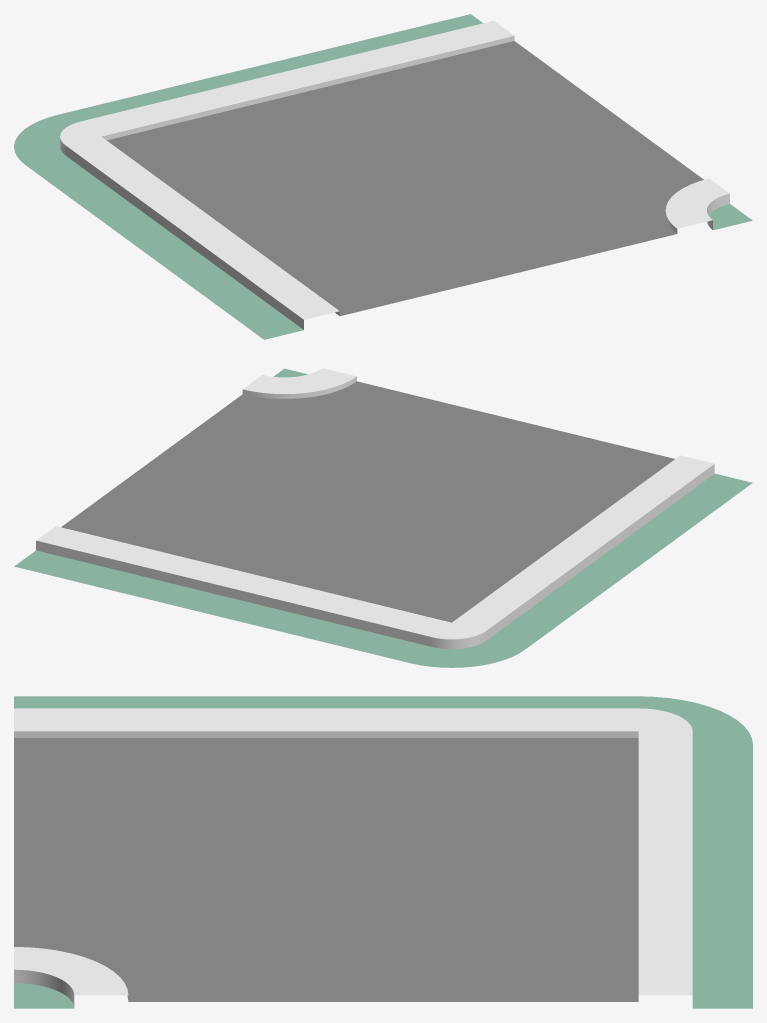
Rendered from roadCornerSmallSquare.glb.
3 views of the same model, one above another, from view 1: azimuth 30°, elevation 25°; view 2: azimuth 150°, elevation 25°; view 3: azimuth 270°, elevation 25° (orthographic). The views are drawn at different scales.
Visible parts, largest first — view 1: roadCornerSmallSquare; view 2: roadCornerSmallSquare; view 3: roadCornerSmallSquare.
Boxes of the visible parts, left/top/right/bottom form: roadCornerSmallSquare: left=14, top=14, right=752, bottom=339; roadCornerSmallSquare: left=14, top=368, right=752, bottom=667; roadCornerSmallSquare: left=14, top=696, right=752, bottom=1008.
Bounding box in the file's own units: 1.48 × 0.0295 × 1.48.
